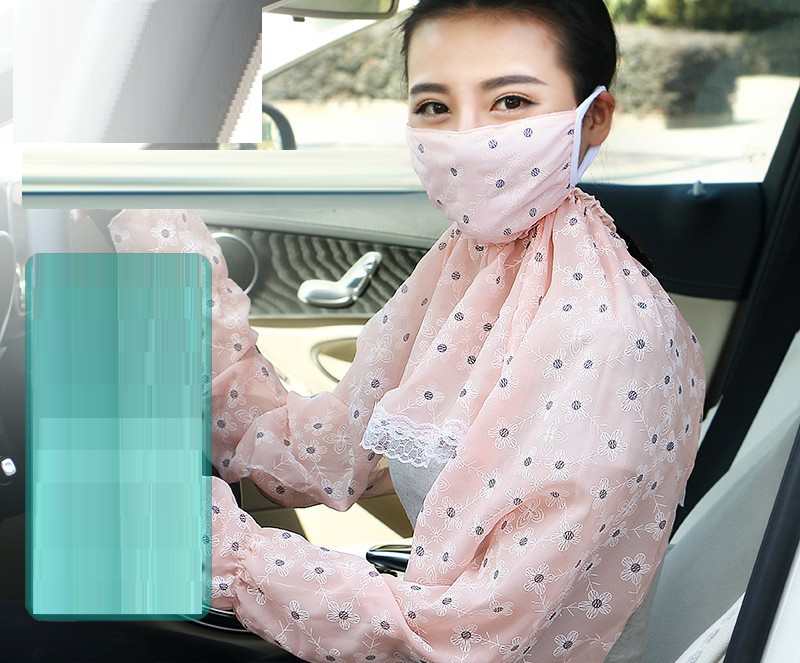face_mask: (404, 8, 577, 223)
